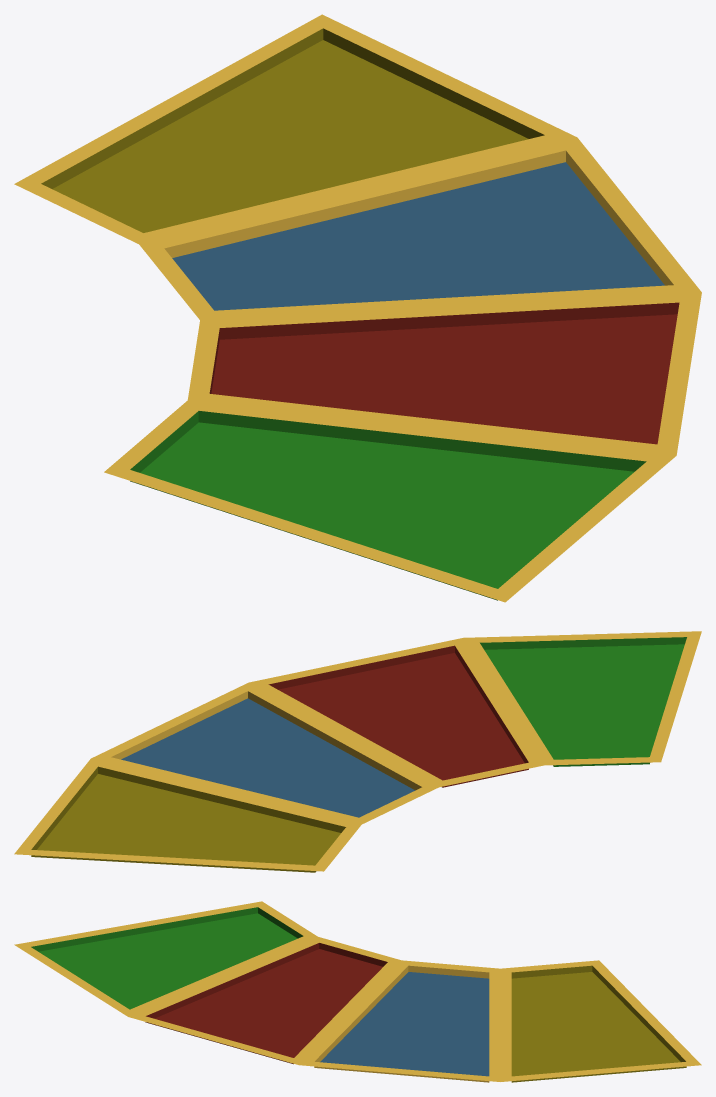
File: RouletteSectors.fbx
3 renders of one model, top to bottom at view 1: azimuth 30°, elevation 25°; view 2: azimuth 150°, elevation 25°; view 3: azimuth 270°, elevation 25°, orthographic. The views are drawn at different scales.
Visible parts, largest first — view 1: HP1, Attack1, Sheild1, Money1; view 2: Money1, HP1, Attack1, Sheild1; view 3: Sheild1, Money1, Attack1, HP1.
Part boxes in pixels (x1,y1,x2,y2): HP1: (104,400,676,602); Attack1: (187,292,701,455); Sheild1: (139,137,701,320); Money1: (14,14,576,244); Money1: (14,758,361,872); HP1: (463,631,701,766); Attack1: (249,638,543,787); Sheild1: (91,682,438,824); Sheild1: (299,960,500,1082); Money1: (500,960,701,1082); Attack1: (129,937,401,1064); HP1: (14,901,317,1016).
Size of the model in its own units: 163 by 2.58 by 261.
